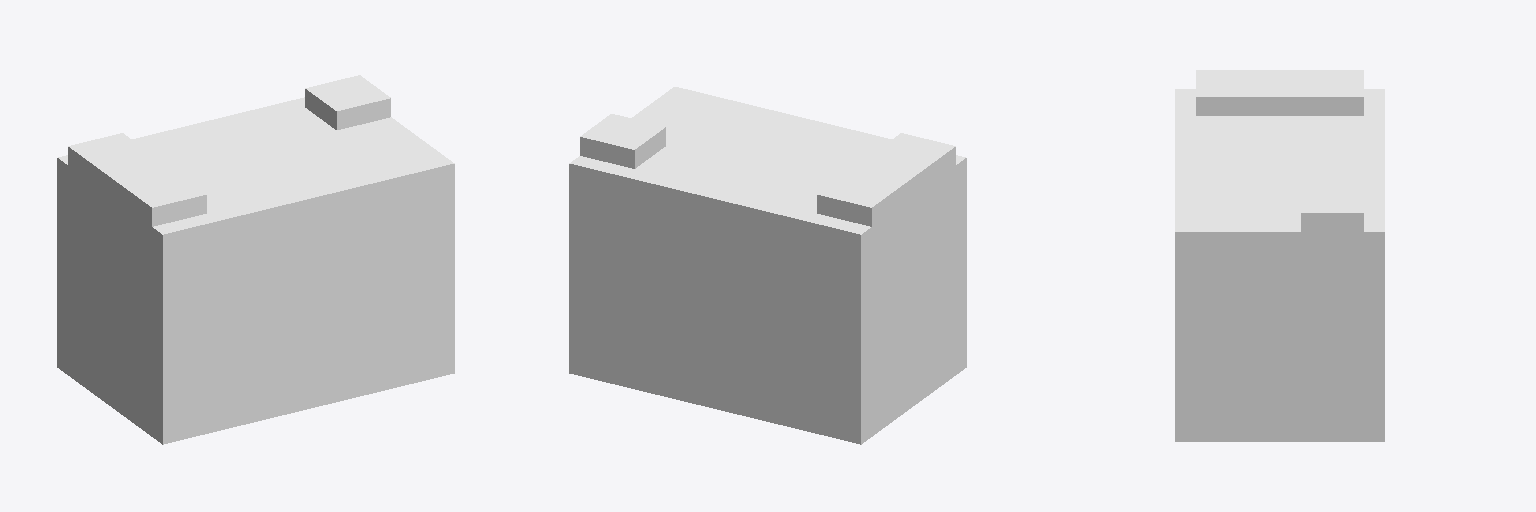
The model's file is Office.obj.
3 renders of one model, left to right at view 1: azimuth 30°, elevation 25°; view 2: azimuth 150°, elevation 25°; view 3: azimuth 270°, elevation 25°, orthographic.
Bounding box in the file's own units: 16 × 12 × 10.